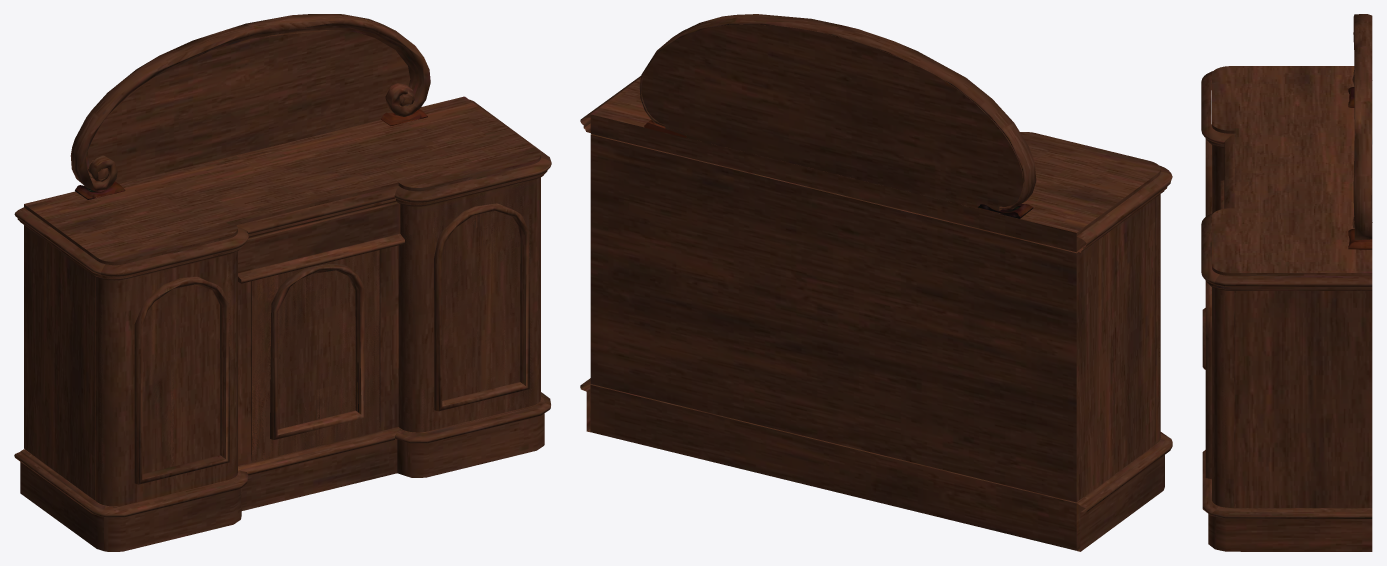
File: sideboard.glb
3 renders of one model, left to right at view 1: azimuth 30°, elevation 25°; view 2: azimuth 150°, elevation 25°; view 3: azimuth 270°, elevation 25°, orthographic. The views are drawn at different scales.
Visible parts, largest first — view 1: Object_3; view 2: Object_3; view 3: Object_3.
Part boxes in pixels (x1,y1,x2,y2): Object_3: [14, 14, 551, 551]; Object_3: [580, 14, 1172, 551]; Object_3: [1201, 14, 1372, 551].
Size of the model in its own units: 1.7 by 1.47 by 0.5681.
Materials: 1 (1 with a texture image).
